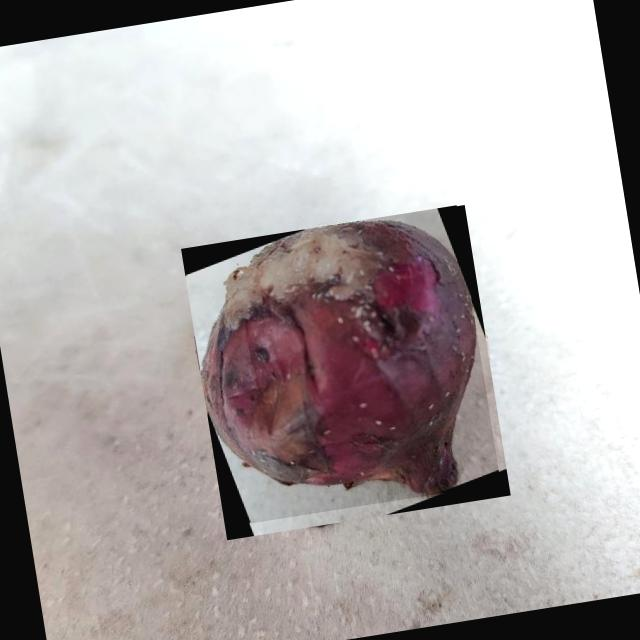rotten: (202, 222, 475, 495)
